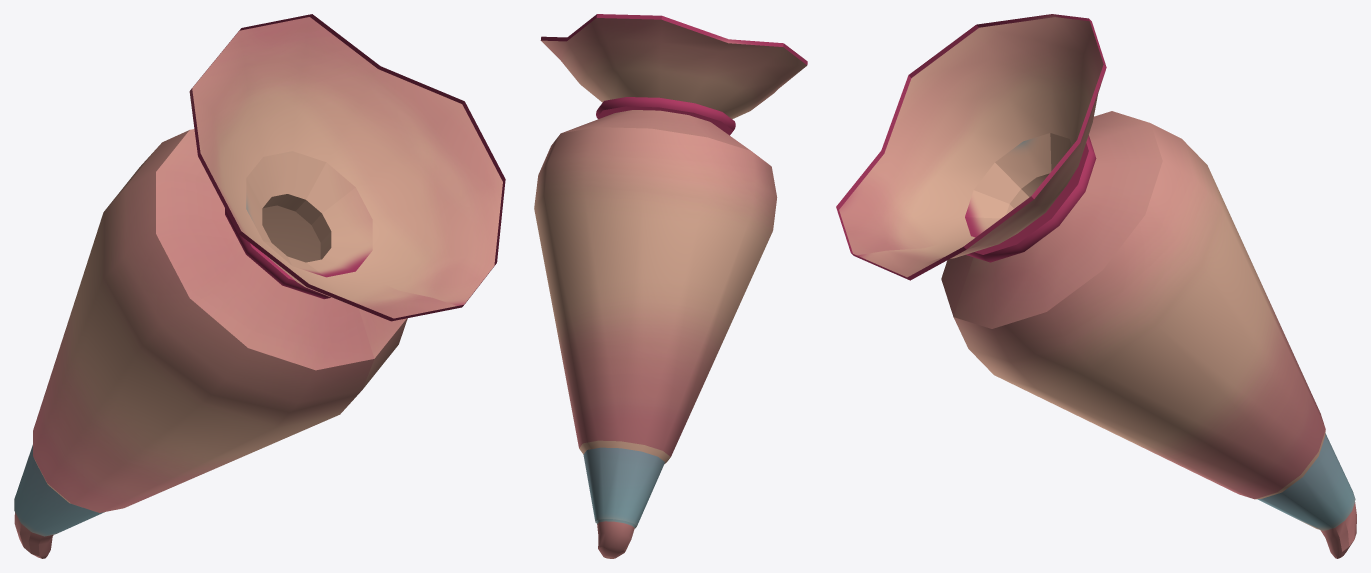
The model's file is pasta kremi.fbx.
3 views of the same model, side by side, from view 1: azimuth 30°, elevation 25°; view 2: azimuth 150°, elevation 25°; view 3: azimuth 270°, elevation 25° (orthographic). The views are drawn at different scales.
Visible parts, largest first — view 1: cream; view 2: cream; view 3: cream.
Part boxes in pixels (x1=…): cream: x1=14, y1=14, x2=505, y2=558; cream: x1=534, y1=14, x2=807, y2=558; cream: x1=836, y1=14, x2=1356, y2=558.
Bounding box in the file's own units: 2.5 × 4.5 × 3.74.
Materials: 1 (1 with a texture image).
